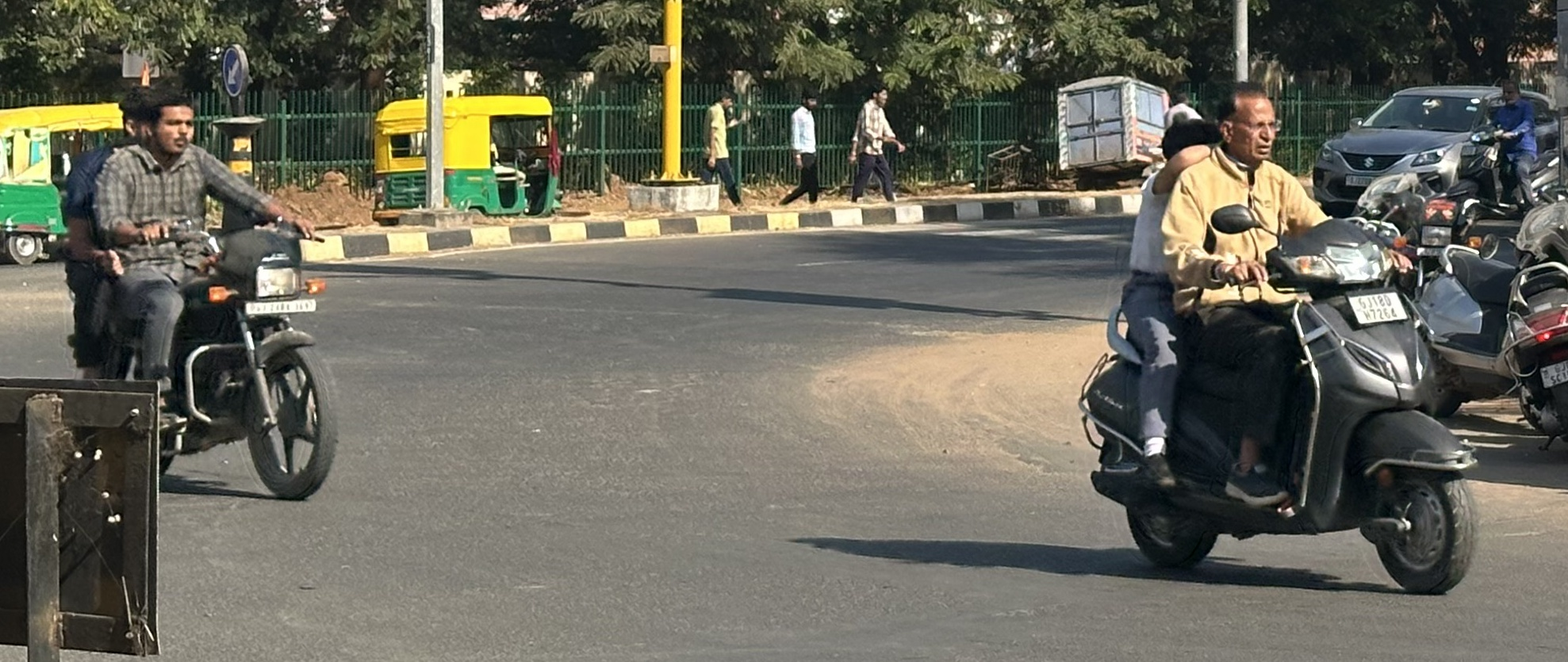BikeWithRider: (1067, 73, 1497, 600), (48, 77, 351, 509)
NoHelmet: (1205, 75, 1293, 168), (135, 83, 207, 163), (109, 84, 167, 154)
